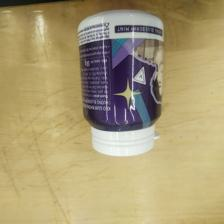Xylitol_BTS: (76, 9, 165, 157)
